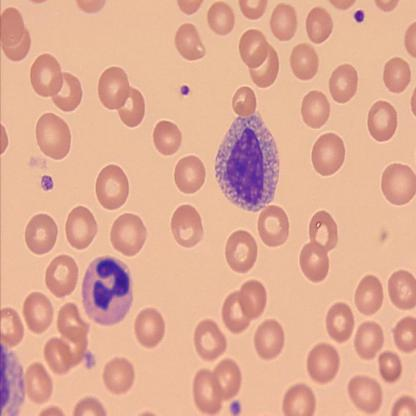Metamyelocyte: (213, 109, 283, 216)
